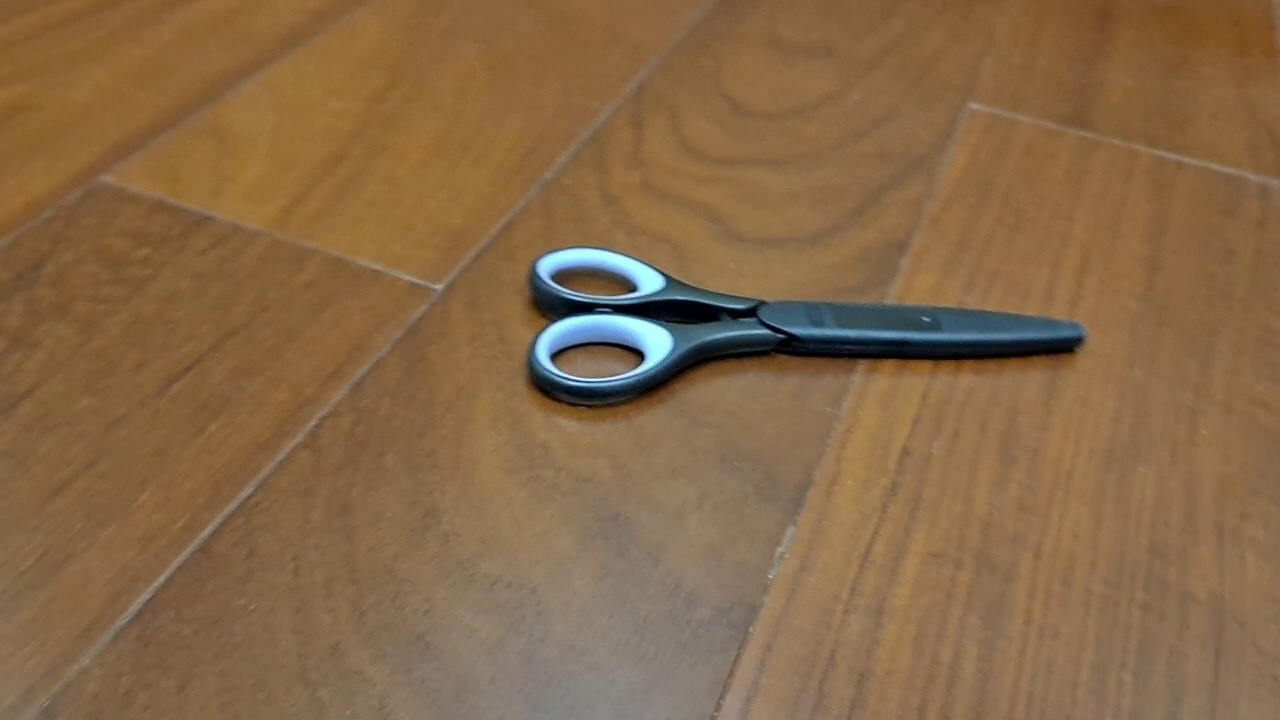scissors: (525, 244, 1089, 411)
